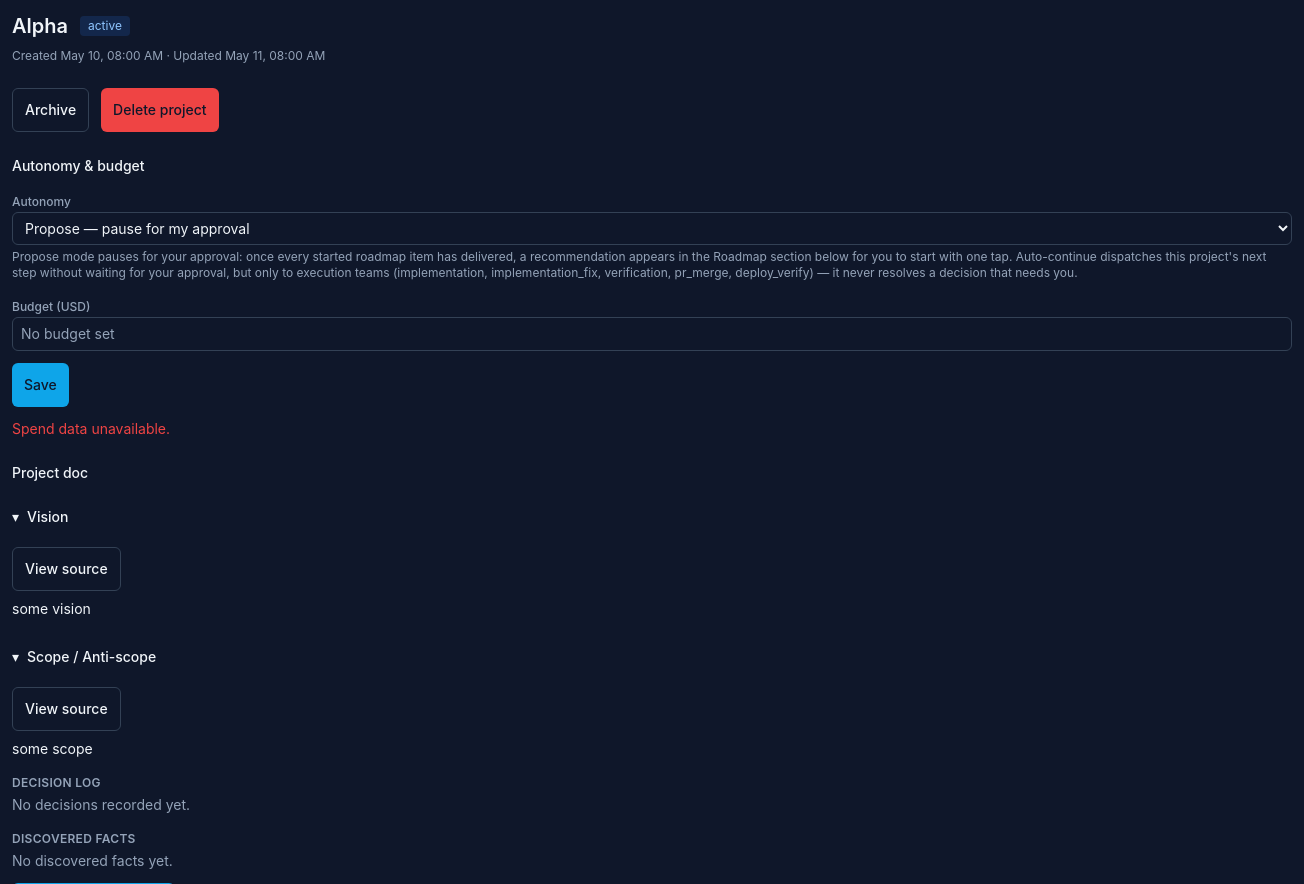
Test: Project busy-state sites onto the shared action hook › AutonomyBudgetEditor's Save button clears busy after a successful settle
What coordinates should you click on to do the following:
click the button with test id "project-autonomy-save"
I would click on:
 (40, 385)
Its box is [12,363,69,407].
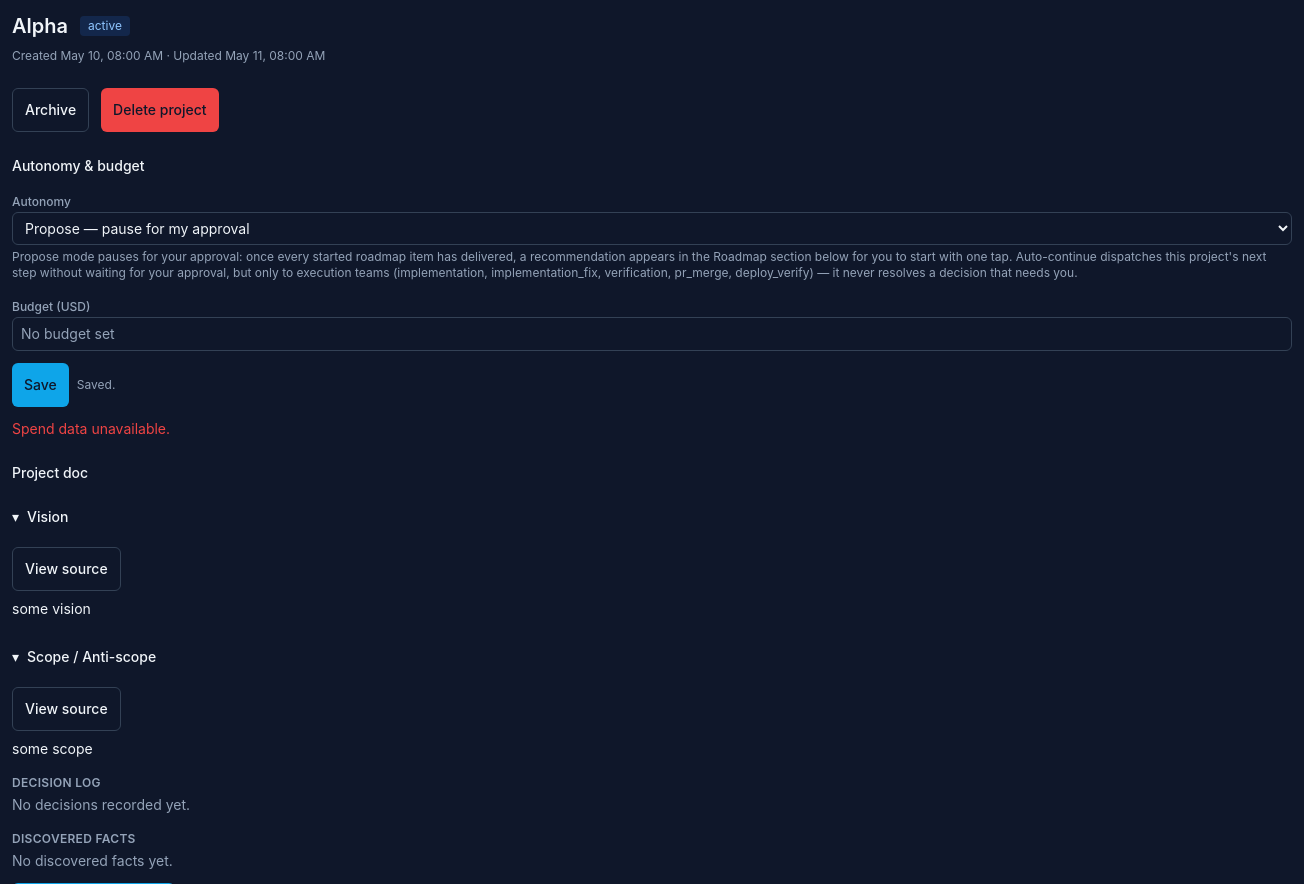
Result: the text "Saved." is shown at [77,377,115,393]
